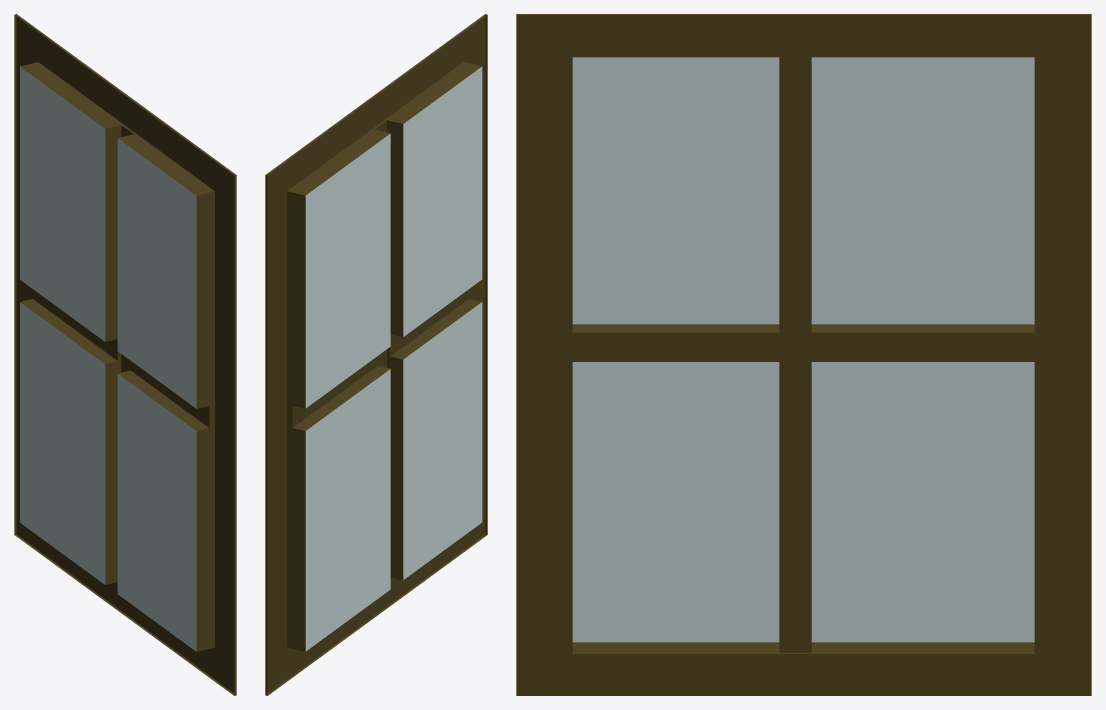
Rendered from GB_Window2.fbx.
3 renders of one model, left to right at view 1: azimuth 30°, elevation 25°; view 2: azimuth 150°, elevation 25°; view 3: azimuth 270°, elevation 25°, orthographic. The views are drawn at different scales.
Visible parts, largest first — view 1: pasted__polySurface6; view 2: pasted__polySurface6; view 3: pasted__polySurface6.
Boxes of the visible parts, x1,y1,x2,y2 form: pasted__polySurface6: [14, 14, 236, 695]; pasted__polySurface6: [265, 14, 487, 695]; pasted__polySurface6: [516, 14, 1091, 695].
Bounding box in the file's own units: 0.0622 × 1.68 × 1.29.
